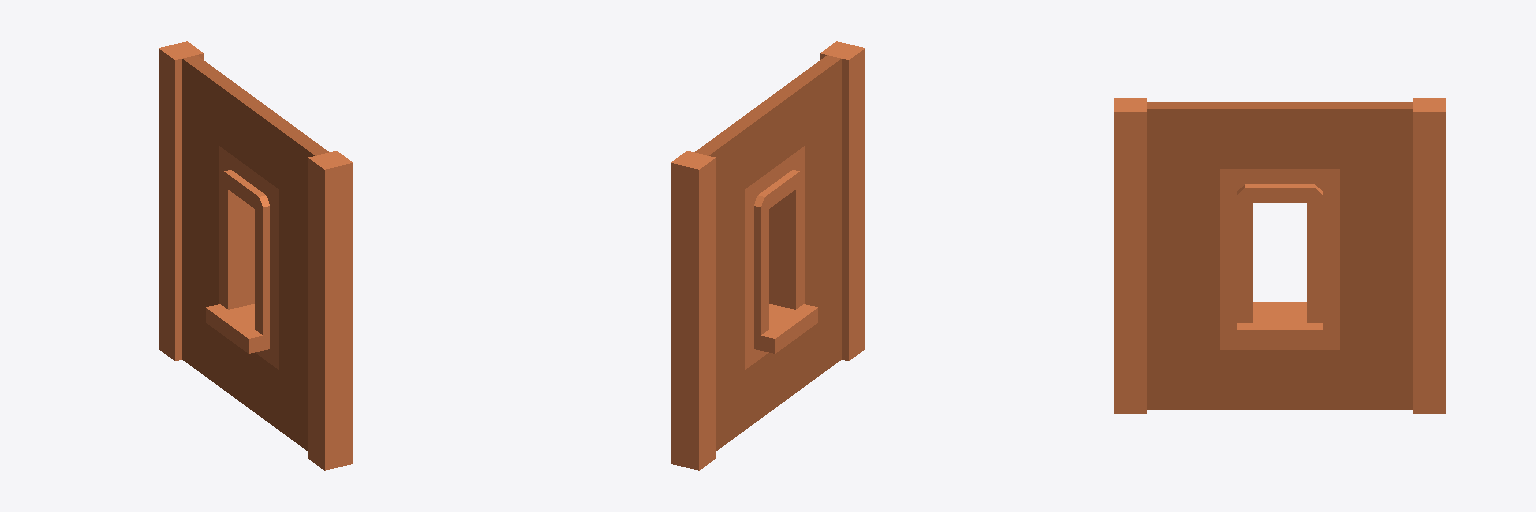
File: wallWoodWindowSmall.obj
The picture shows the model from 3 angles: view 1: azimuth 30°, elevation 25°; view 2: azimuth 150°, elevation 25°; view 3: azimuth 270°, elevation 25°; orthographic projection.
Visible parts, largest first — view 1: wallWoodWindowSmall; view 2: wallWoodWindowSmall; view 3: wallWoodWindowSmall.
Boxes of the visible parts, <box> form: wallWoodWindowSmall: <box>159,41,352,470</box>; wallWoodWindowSmall: <box>671,41,864,470</box>; wallWoodWindowSmall: <box>1114,98,1445,413</box>.
Size of the model in its own units: 0.2 by 1 by 1.